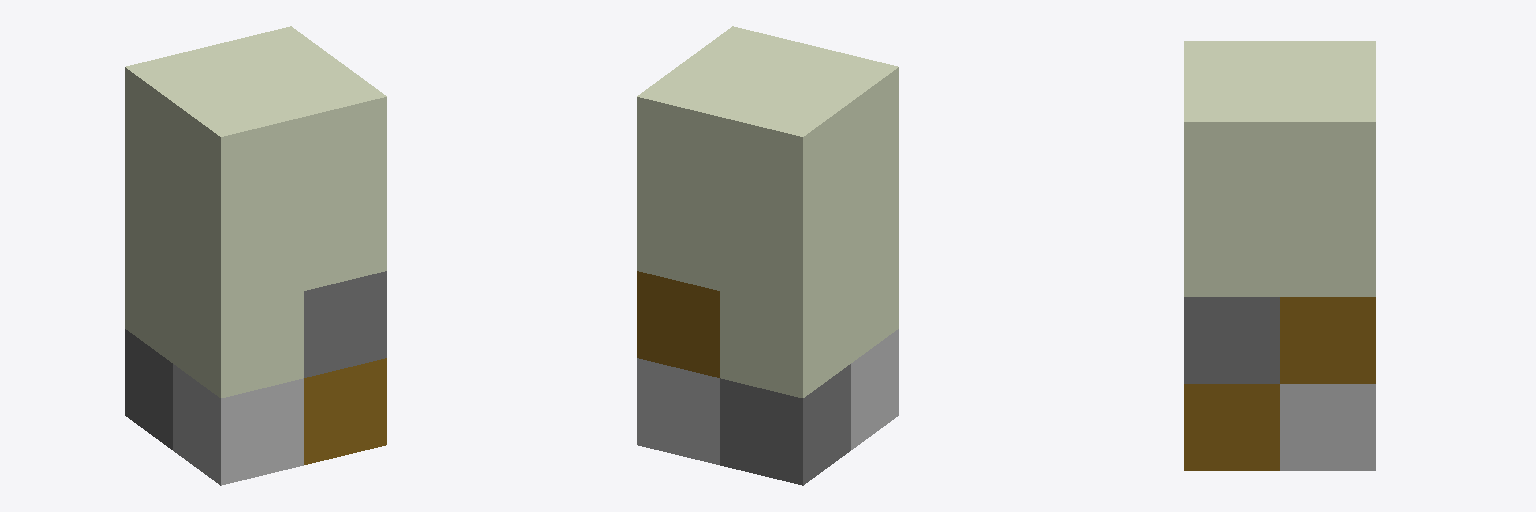
The picture shows the model from 3 angles: view 1: azimuth 30°, elevation 25°; view 2: azimuth 150°, elevation 25°; view 3: azimuth 270°, elevation 25°; orthographic projection.
Parts seen in each view (by area): view 1: object 1; view 2: object 1; view 3: object 1.
Part boxes in pixels (x1,y1,x2,y2): object 1: (125,26,386,485); object 1: (637,26,898,485); object 1: (1184,41,1375,470).
Size of the model in its own units: 0.2 by 0.4 by 0.2.
Materials: 1 (1 with a texture image).